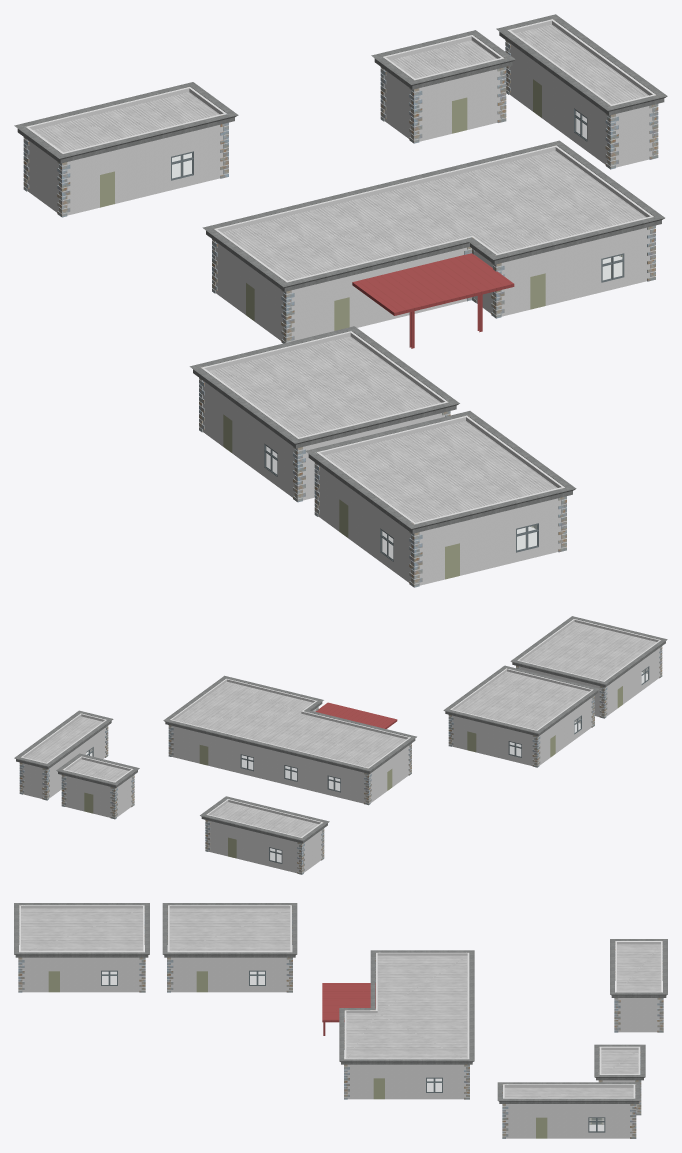
The model's file is Plan(REF)_levels(1)_window(W Double Sash 23_5)_wall(WAFRA WALL)_quoin(Y)_cornice(Y).fbx.
3 renders of one model, top to bottom at view 1: azimuth 30°, elevation 25°; view 2: azimuth 150°, elevation 25°; view 3: azimuth 270°, elevation 25°, orthographic. The views are drawn at different scales.
Visible parts, largest first — view 1: WAFRA Stucco - White Rough 23, WAFRA Roof - Corrugated Sheet Matte 23, Concrete - Structural, WAFRA Stone - Slate Natural 23, WAFRA Roof - Standing Seam Red Coat 23, Color - Beige, Color - White, Glass - Clear, Metal - Finish - Aluminum; view 2: WAFRA Stucco - White Rough 23, WAFRA Roof - Corrugated Sheet Matte 23, Concrete - Structural, WAFRA Stone - Slate Natural 23, Color - Beige, WAFRA Roof - Standing Seam Red Coat 23, Metal - Finish - Aluminum, Glass - Clear, Color - White; view 3: WAFRA Roof - Corrugated Sheet Matte 23, WAFRA Stucco - White Rough 23, Concrete - Structural, WAFRA Stone - Slate Natural 23, WAFRA Roof - Standing Seam Red Coat 23, Color - Beige, Glass - Clear, Metal - Finish - Aluminum, Color - White.
Part boxes in pixels (x1,y1,x2,y2): WAFRA Stucco - White Rough 23: (25, 19, 656, 585); WAFRA Roof - Corrugated Sheet Matte 23: (33, 24, 648, 522); Concrete - Structural: (14, 14, 667, 533); WAFRA Stone - Slate Natural 23: (23, 19, 658, 587); WAFRA Roof - Standing Seam Red Coat 23: (352, 253, 514, 348); Color - Beige: (100, 79, 622, 579); Color - White: (24, 41, 657, 584); Glass - Clear: (172, 111, 622, 558); Metal - Finish - Aluminum: (171, 108, 624, 561); WAFRA Stucco - White Rough 23: (21, 619, 661, 873); WAFRA Roof - Corrugated Sheet Matte 23: (25, 622, 656, 836); Concrete - Structural: (14, 616, 667, 843); WAFRA Stone - Slate Natural 23: (19, 619, 662, 874); Color - Beige: (84, 686, 622, 858); WAFRA Roof - Standing Seam Red Coat 23: (315, 702, 397, 728); Metal - Finish - Aluminum: (86, 666, 649, 863); Glass - Clear: (86, 668, 647, 862); Color - White: (20, 647, 661, 872); WAFRA Roof - Corrugated Sheet Matte 23: (21, 908, 660, 1097); WAFRA Stucco - White Rough 23: (19, 905, 662, 1138); Concrete - Structural: (14, 903, 667, 1103); WAFRA Stone - Slate Natural 23: (18, 905, 663, 1138); WAFRA Roof - Standing Seam Red Coat 23: (322, 983, 375, 1035); Color - Beige: (48, 971, 602, 1138); Glass - Clear: (102, 972, 603, 1130); Metal - Finish - Aluminum: (101, 970, 605, 1132); Color - White: (18, 948, 662, 1136).
Size of the model in its own units: 4244 by 5930 by 400.
Materials: 13 (6 with a texture image).
